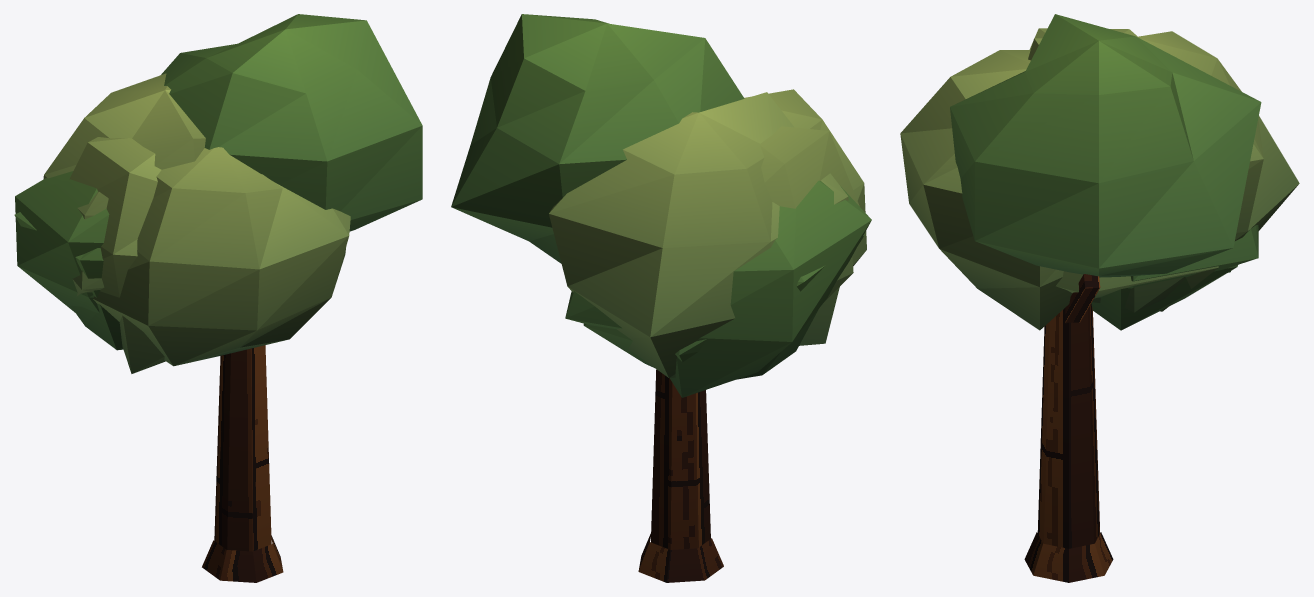
File: apple_2_lowpoly.glb
3 renders of one model, left to right at view 1: azimuth 30°, elevation 25°; view 2: azimuth 150°, elevation 25°; view 3: azimuth 270°, elevation 25°, orthographic. The views are drawn at different scales.
Parts seen in each view (by area): view 1: apple_2_lowpoly; view 2: apple_2_lowpoly; view 3: apple_2_lowpoly.
Boxes of the visible parts, bbox=[...] form: apple_2_lowpoly: bbox=[14, 14, 422, 582]; apple_2_lowpoly: bbox=[451, 14, 871, 582]; apple_2_lowpoly: bbox=[900, 14, 1299, 582].
Size of the model in its own units: 3.58 by 4.81 by 3.15.
Materials: 2 (1 with a texture image).
